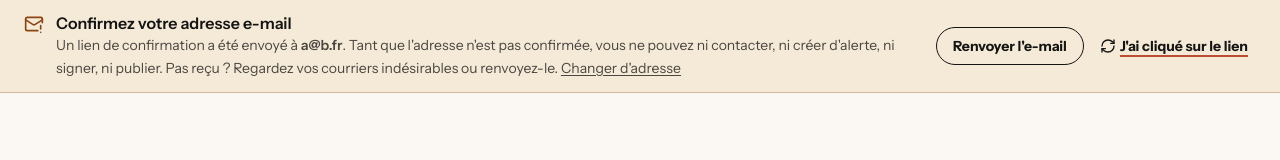
Test case: EmailVerificationBanner › absent quand l'adresse est confirmée, renvoi avec compte à rebours
Click the button with test id "resend-verification-btn" at (1010, 46), box [936, 27, 1084, 65]
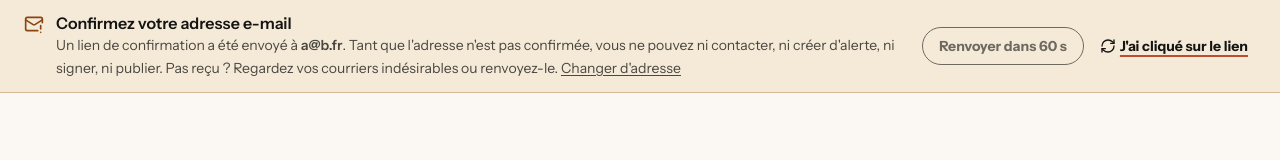
Now the button with test id "resend-verification-btn" is disabled, box [922, 27, 1084, 65]
Now the button with test id "resend-verification-btn" reads "Renvoyer dans 60 s", box [922, 27, 1084, 65]
